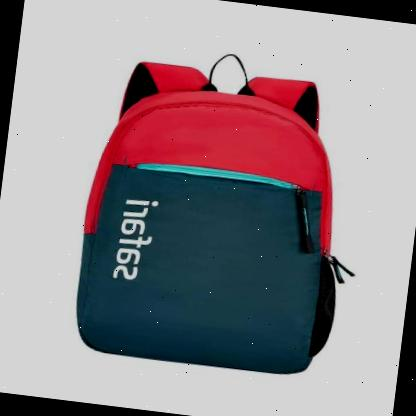bag: (63, 32, 380, 386)
